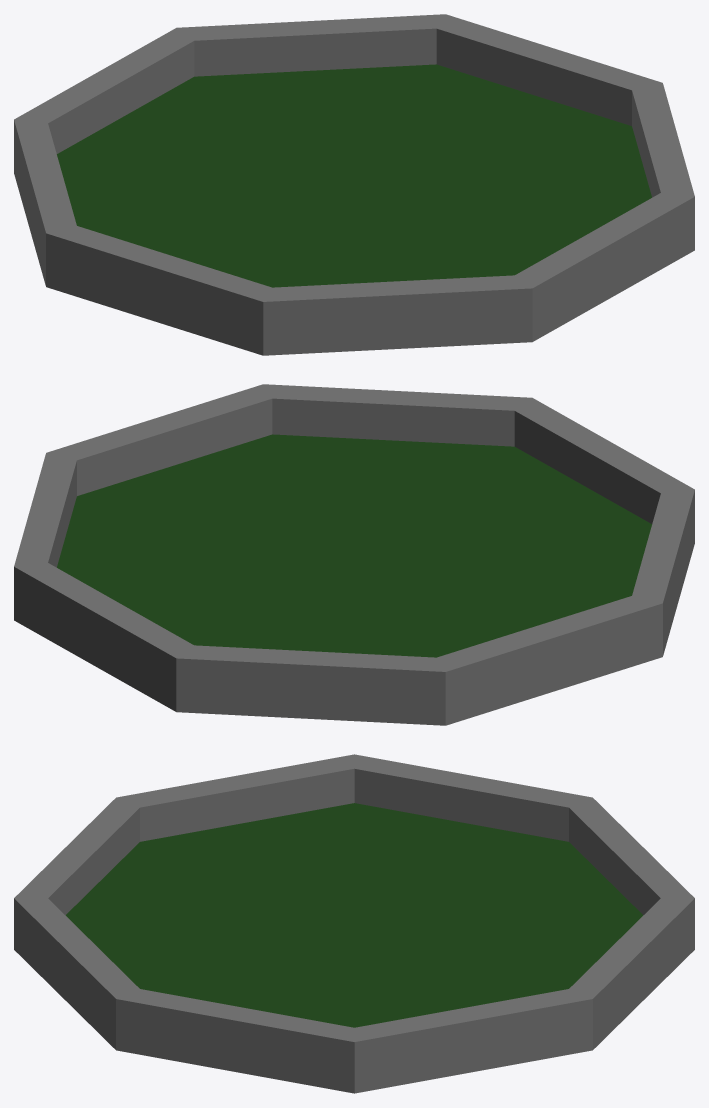
Rendered from GrassCircleGray.obj.
3 renders of one model, top to bottom at view 1: azimuth 30°, elevation 25°; view 2: azimuth 150°, elevation 25°; view 3: azimuth 270°, elevation 25°, orthographic. The views are drawn at different scales.
Parts seen in each view (by area): view 1: trawka; view 2: trawka; view 3: trawka.
Boxes of the visible parts, bbox=[...] form: trawka: bbox=[14, 14, 694, 355]; trawka: bbox=[14, 384, 694, 725]; trawka: bbox=[14, 754, 694, 1093].
Size of the model in its own units: 7.2 by 0.6 by 7.2.
